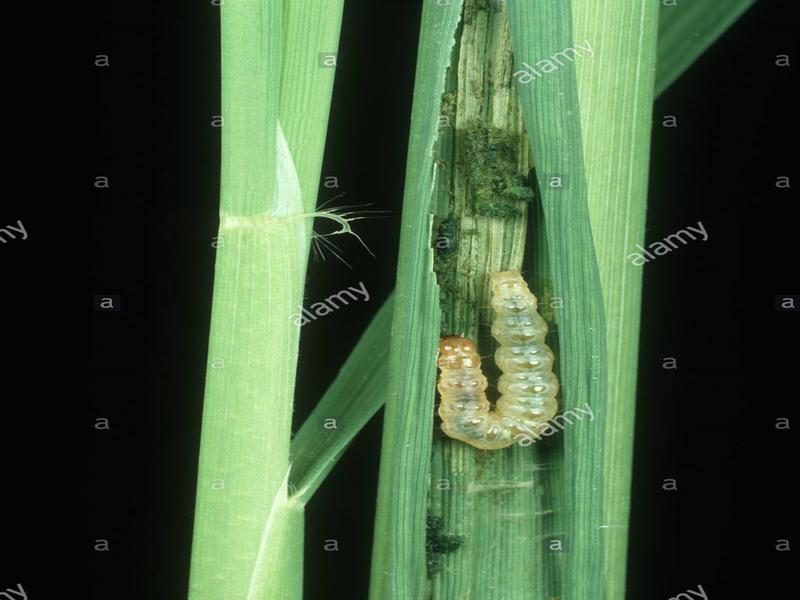Leaf_folder: (411, 263, 581, 464)
